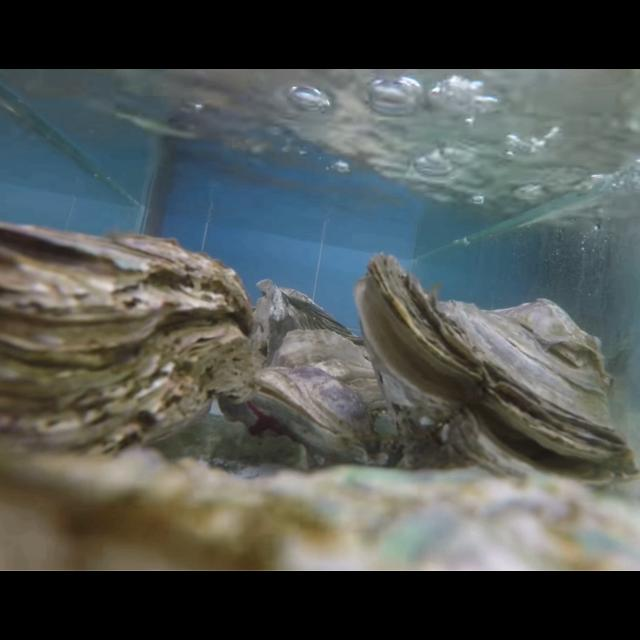Oyster-Closed: (0, 446, 640, 572), (0, 221, 256, 479), (254, 278, 370, 369)
Oyster-Open: (354, 253, 640, 497), (248, 328, 410, 468)
